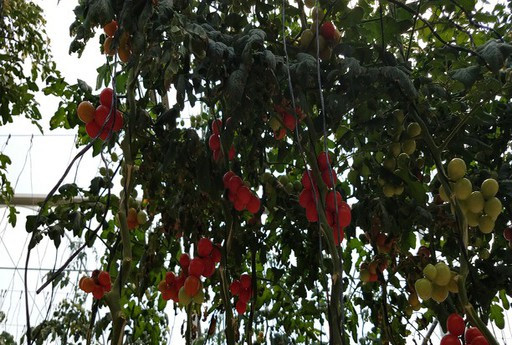green tomato bunch: (439, 158, 501, 234), (380, 107, 422, 196), (408, 264, 461, 313), (182, 111, 217, 128)
mixed tomato bunch: (301, 10, 341, 68), (102, 18, 139, 63), (268, 92, 302, 139), (360, 256, 387, 282), (118, 207, 147, 226)
red tomato bunch: (300, 152, 351, 245), (160, 238, 224, 303), (76, 87, 124, 140), (222, 169, 260, 214), (209, 117, 236, 163), (80, 270, 114, 298), (228, 274, 253, 312)
